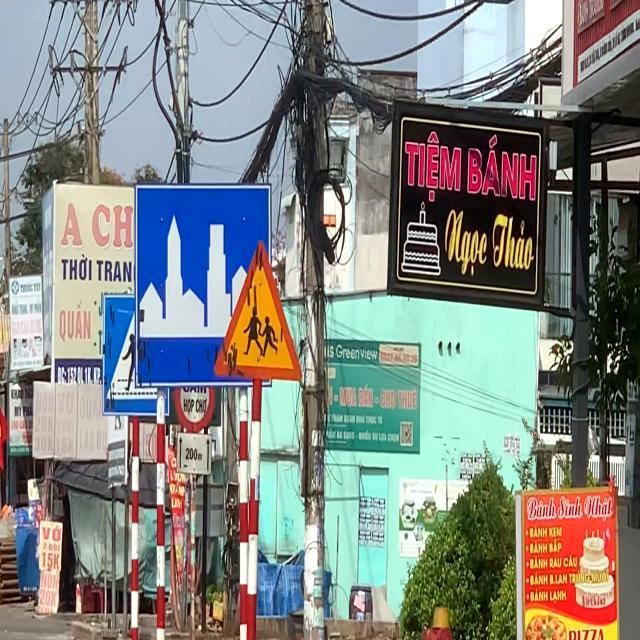Tre em: (211, 232, 308, 387)
